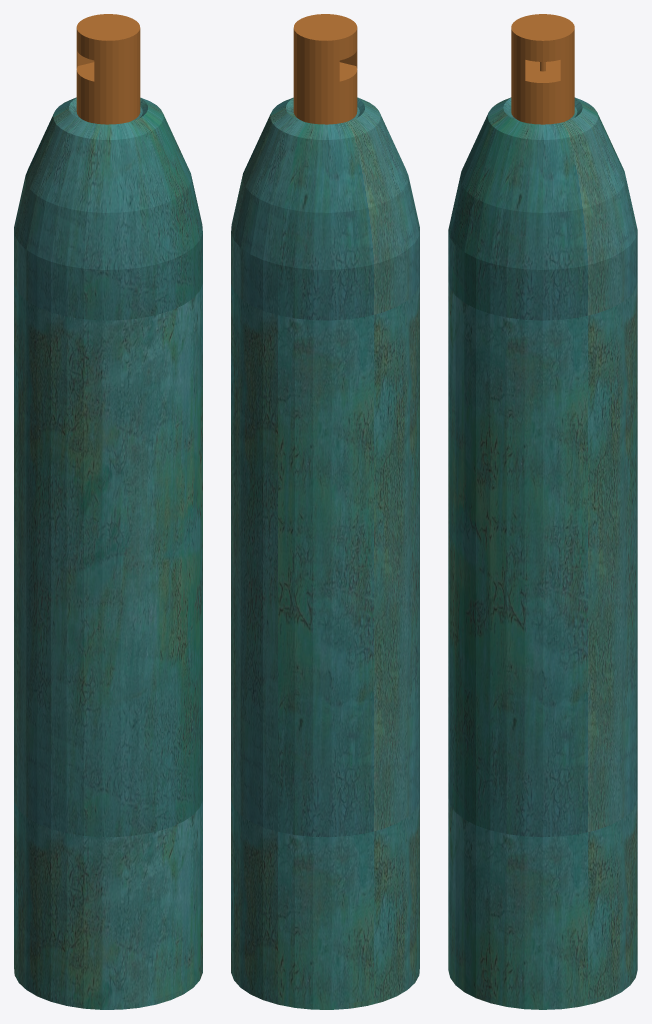
Rendered from tanqueOxigeno.obj.
3 views of the same model, side by side, from view 1: azimuth 30°, elevation 25°; view 2: azimuth 150°, elevation 25°; view 3: azimuth 270°, elevation 25° (orthographic).
Visible parts, largest first — view 1: tanque:Mesh; view 2: tanque:Mesh; view 3: tanque:Mesh.
Boxes of the visible parts, x1,y1,x2,y2 form: tanque:Mesh: [14, 14, 202, 1009]; tanque:Mesh: [231, 14, 419, 1009]; tanque:Mesh: [448, 14, 637, 1009].
Size of the model in its own units: 0.5 by 2.75 by 0.5.
2 materials, 2 textured.
